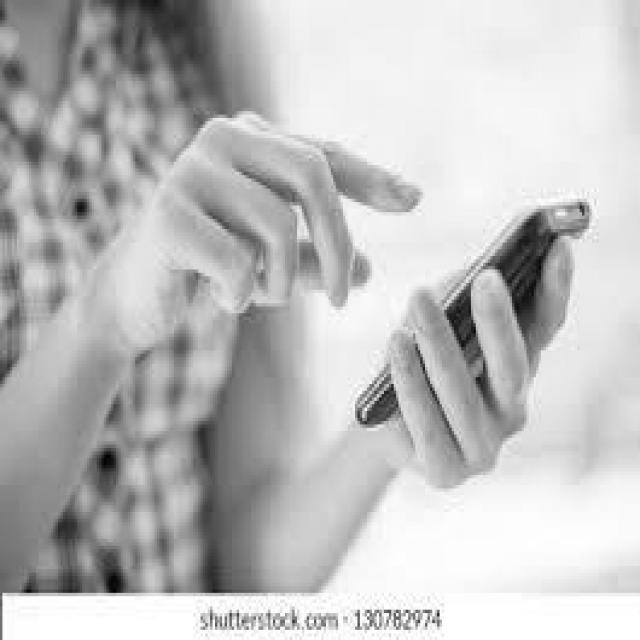No gun_phone: (358, 201, 590, 425)
